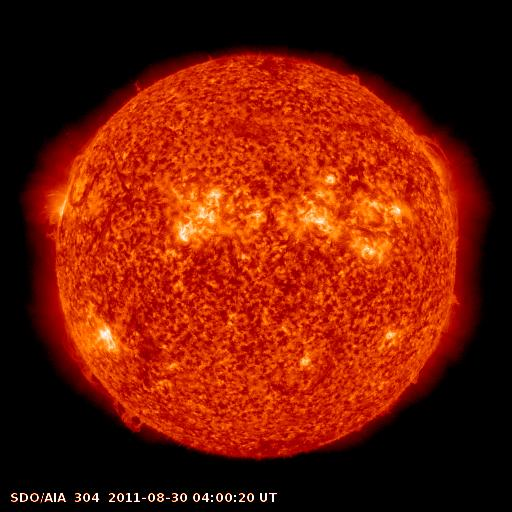prominence: (60, 327, 149, 438), (409, 128, 467, 246)
